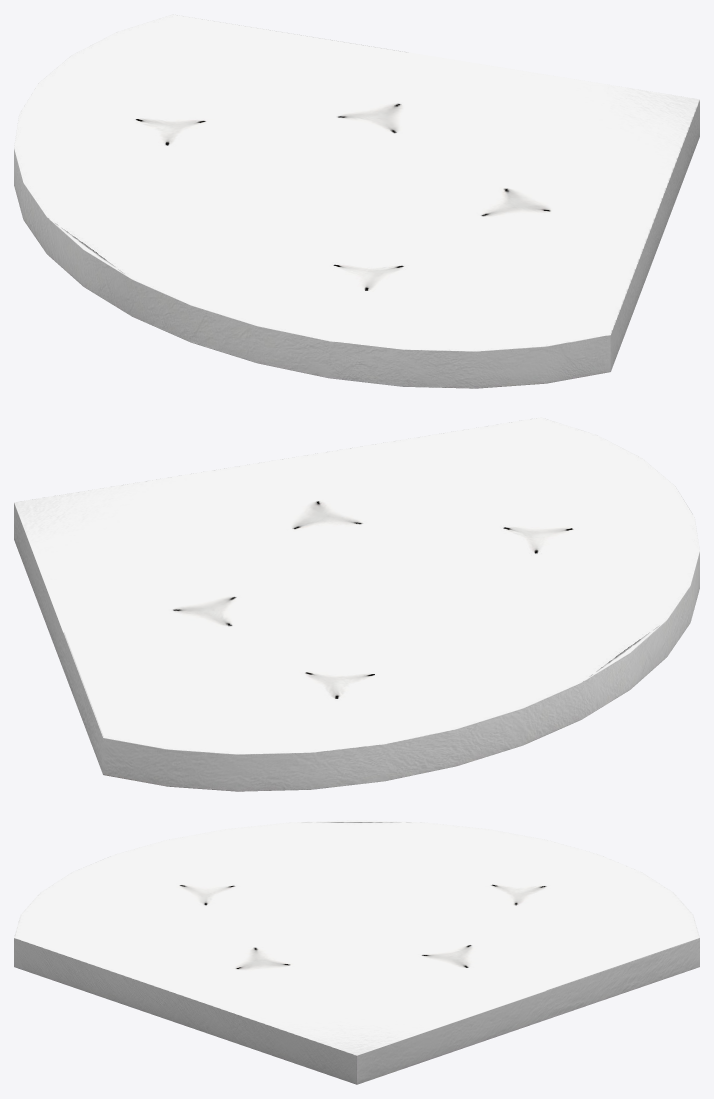
The model's file is Fan (1.1, 0, 0).glb.
3 renders of one model, top to bottom at view 1: azimuth 30°, elevation 25°; view 2: azimuth 150°, elevation 25°; view 3: azimuth 270°, elevation 25°, orthographic. The views are drawn at different scales.
Parts seen in each view (by area): view 1: Cylinder.026; view 2: Cylinder.026; view 3: Cylinder.026.
Part boxes in pixels (bbox=[...]): Cylinder.026: bbox=[14, 14, 699, 388]; Cylinder.026: bbox=[14, 417, 699, 791]; Cylinder.026: bbox=[14, 820, 699, 1084].
Bounding box in the file's own units: 5.2 × 0.3 × 6.4.
Materials: 1 (1 with a texture image).
